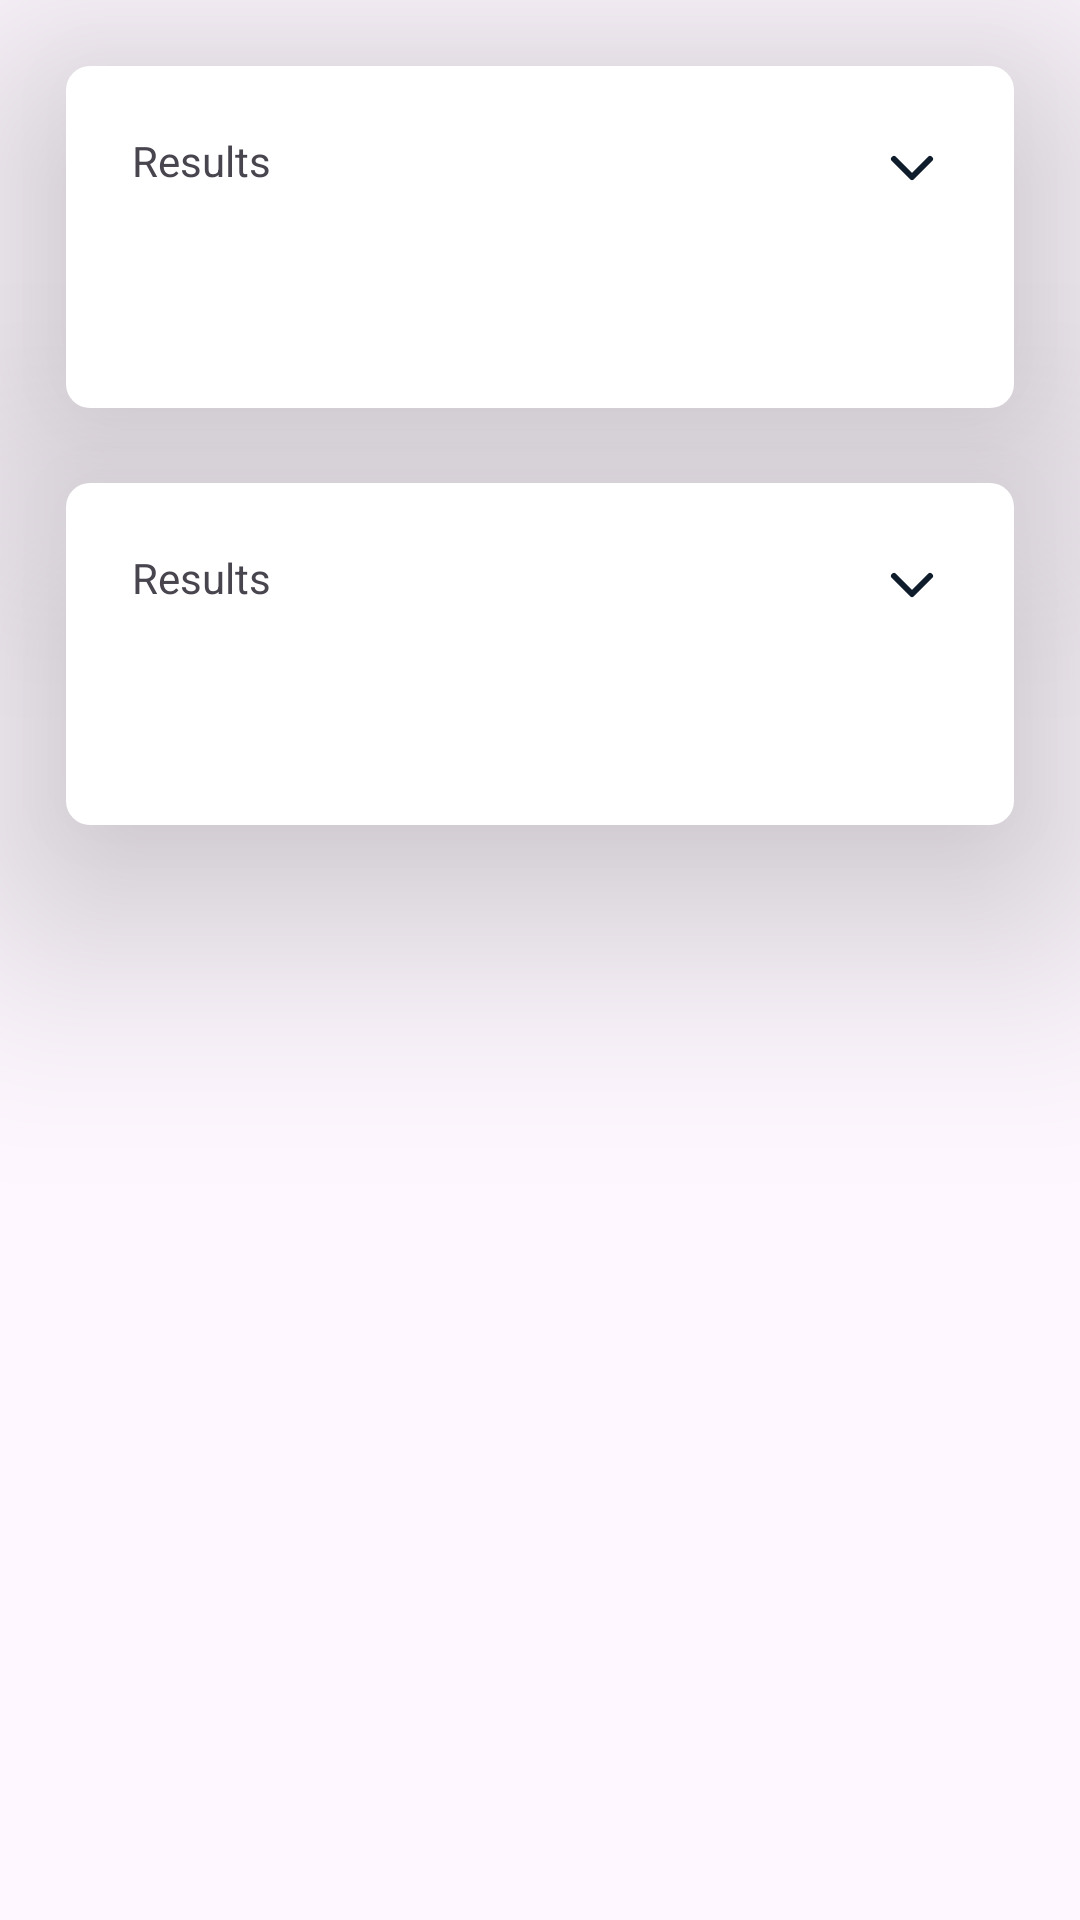

Icon click points for this 1080 × 1920 phone screenshot, format (x=x, y=y):
arrow down: (x=912, y=168), (x=912, y=585)
